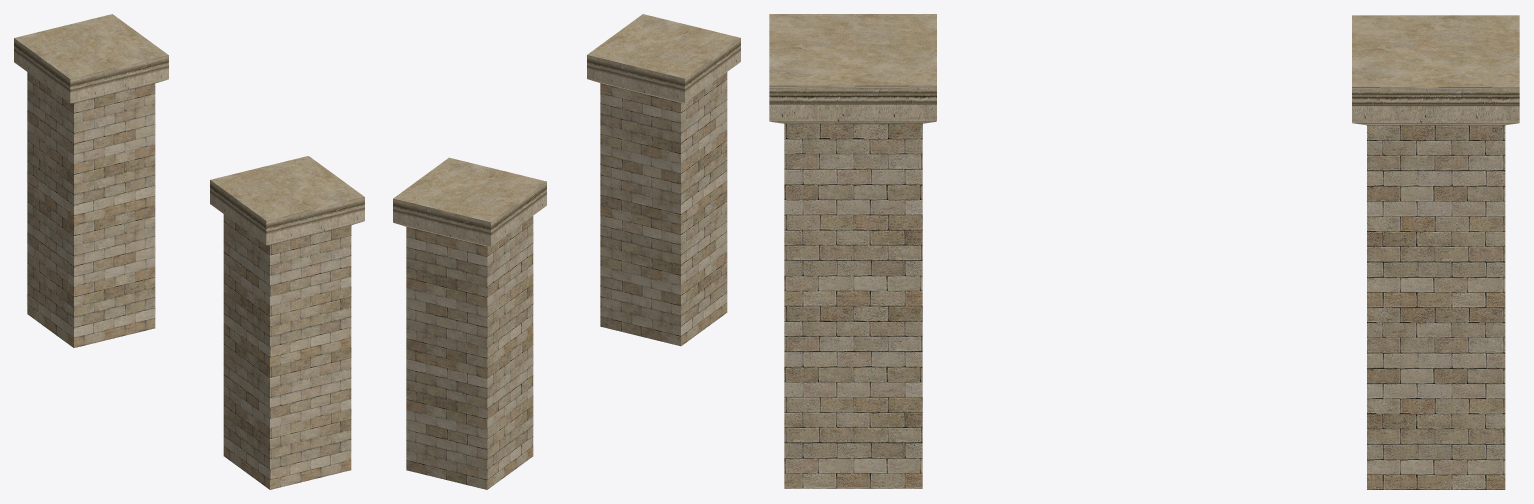
The model's file is thm_nboo_imprv_spill_gate_cap_s01_l0.fbx.
3 renders of one model, left to right at view 1: azimuth 30°, elevation 25°; view 2: azimuth 150°, elevation 25°; view 3: azimuth 270°, elevation 25°, orthographic. The views are drawn at different scales.
Visible parts, largest first — view 1: mesh_node; view 2: mesh_node; view 3: mesh_node.
Part boxes in pixels (box(x1,y1,x2,y2)): mesh_node: box(14, 14, 364, 489); mesh_node: box(393, 14, 740, 489); mesh_node: box(769, 14, 1519, 489).
Size of the model in its own units: 1.8 by 4.79 by 7.93.
